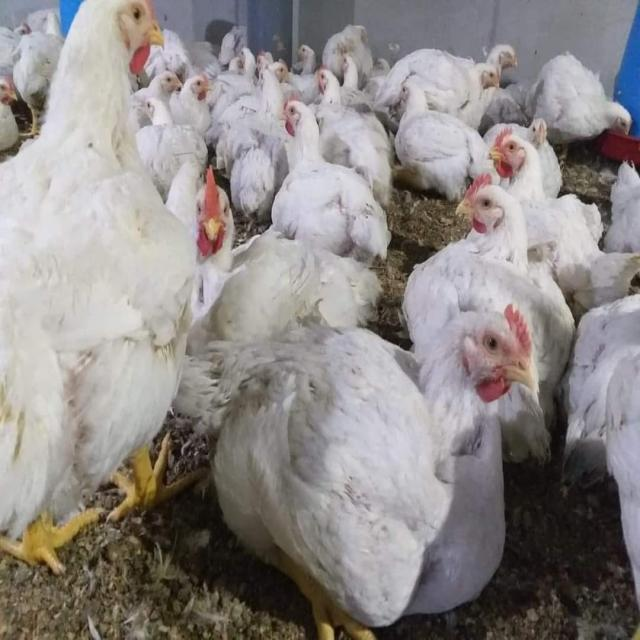Healthy: (1, 1, 223, 577), (206, 300, 549, 626)
